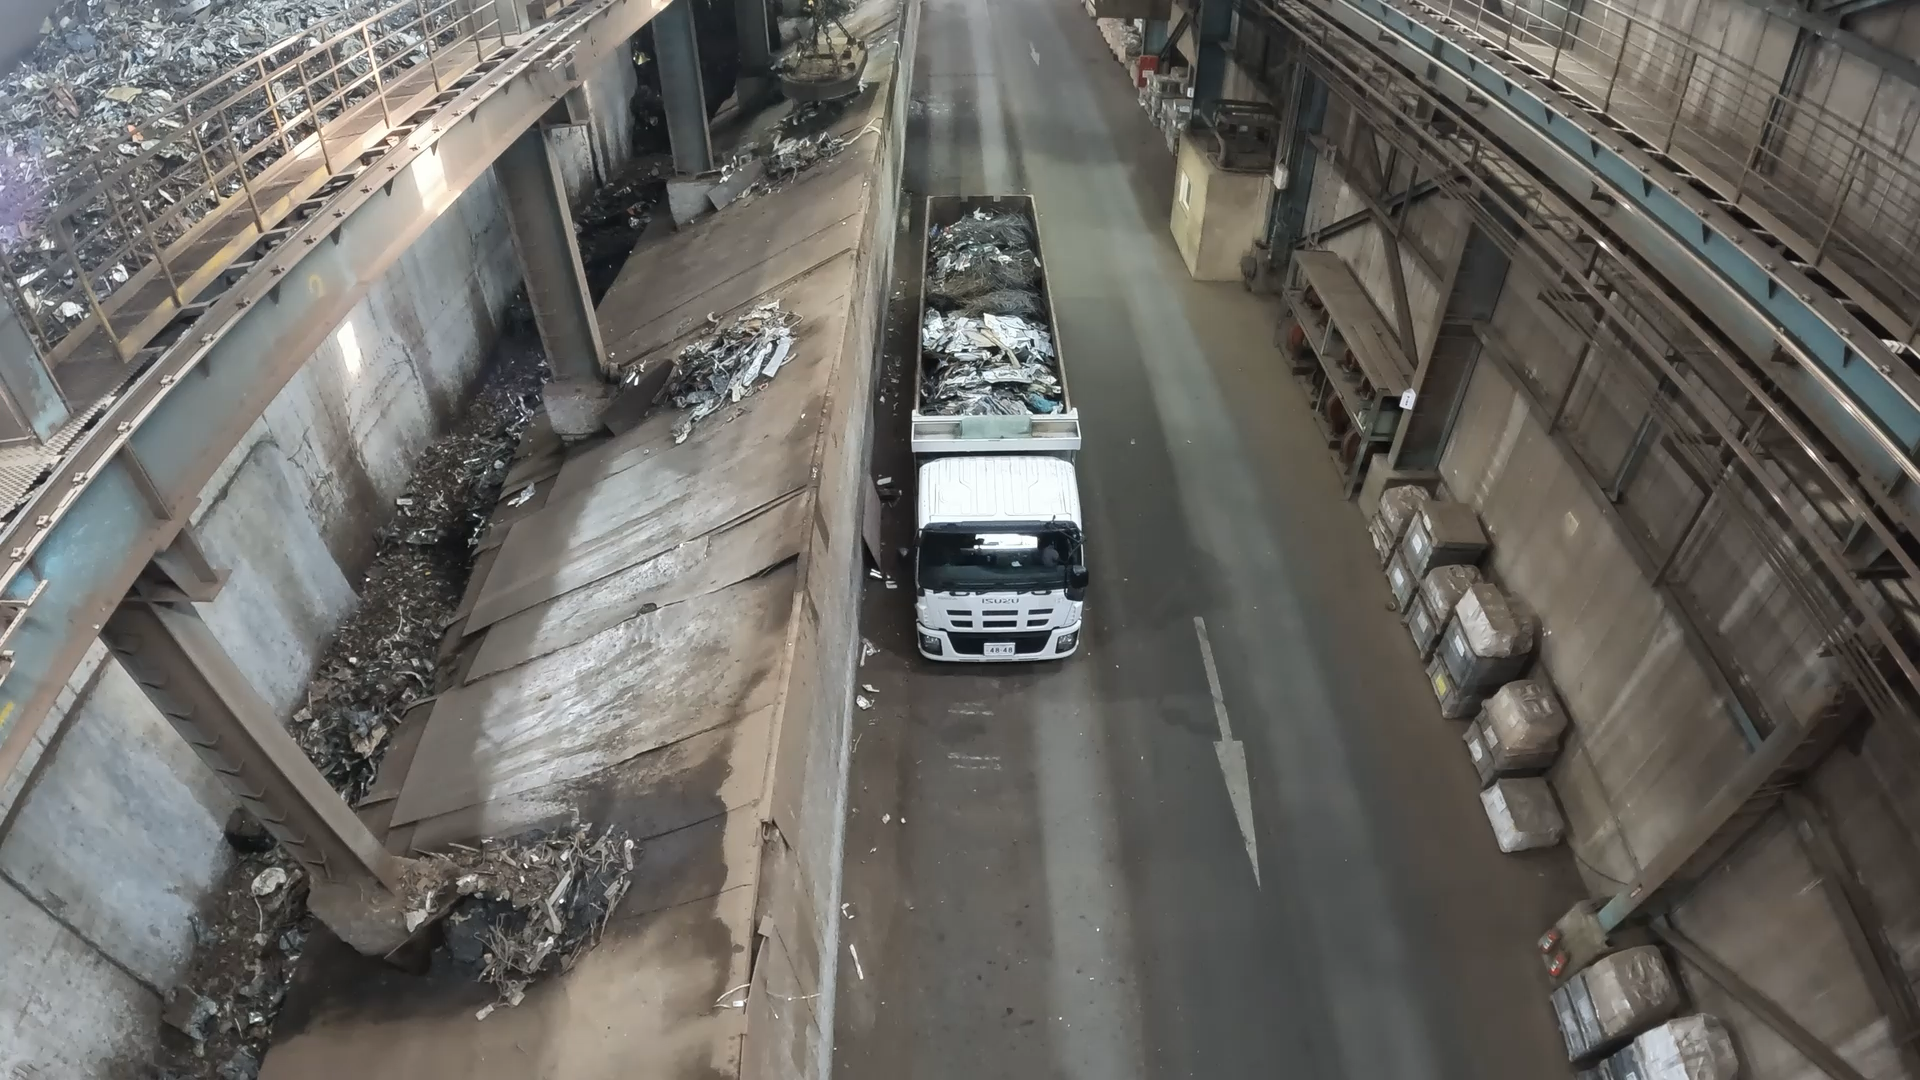truck: (916, 193, 1073, 415)
